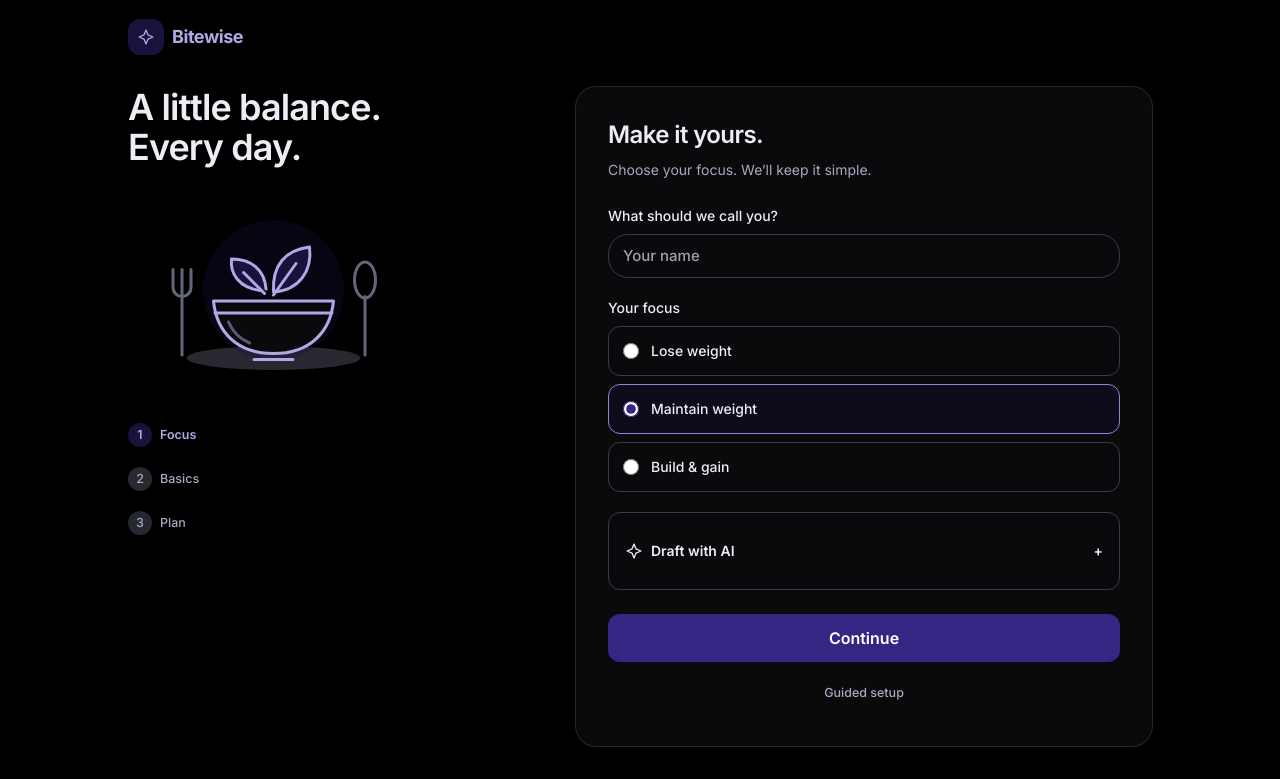
Test case: AI setup failure boundaries › distinguishes daily_limit without blocking manual setup
Click the button "Draft with AI +" at (693, 551), box [625, 529, 1103, 573]
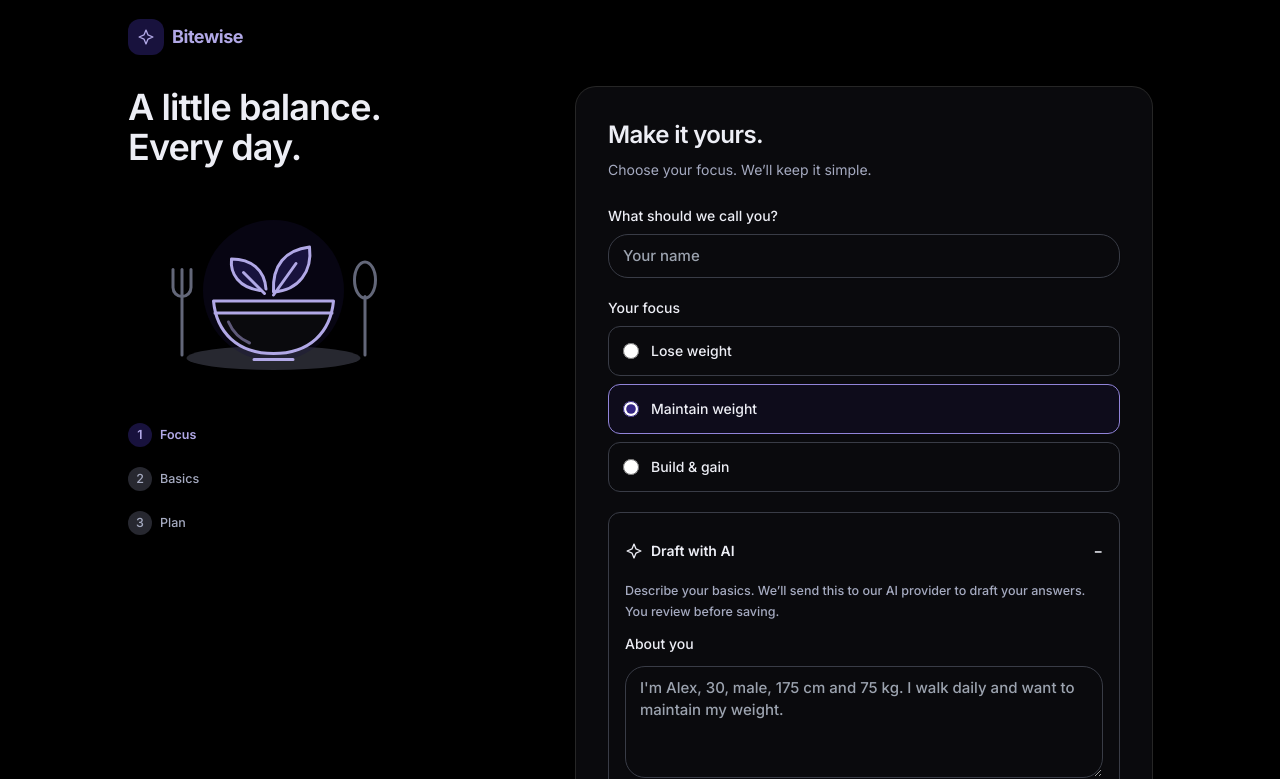
Replace the text in the text box labelled "About you" with "  I am Taylor A, 32, female, 175 cm and 75 kg.  " at (864, 722), box [625, 666, 1103, 778]
(page scrolled)
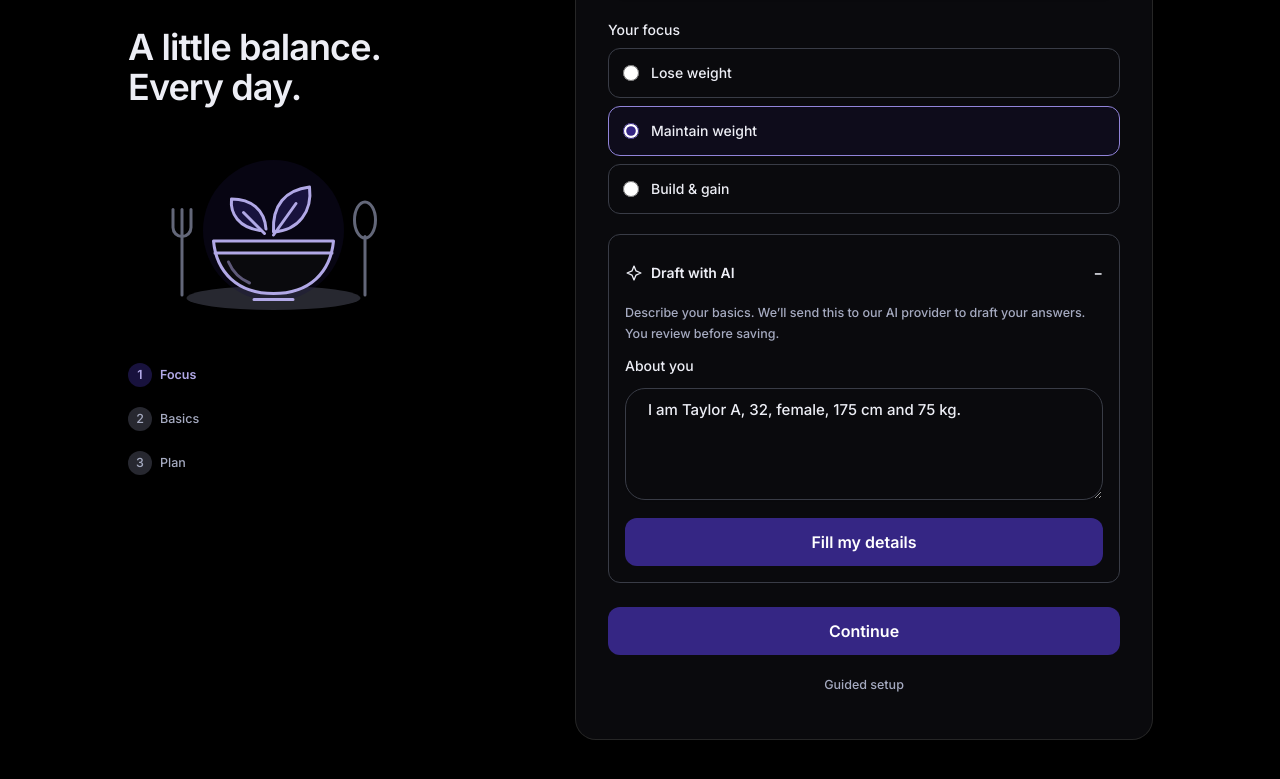
Click the button "Fill my details" at (864, 542), box [625, 518, 1103, 566]
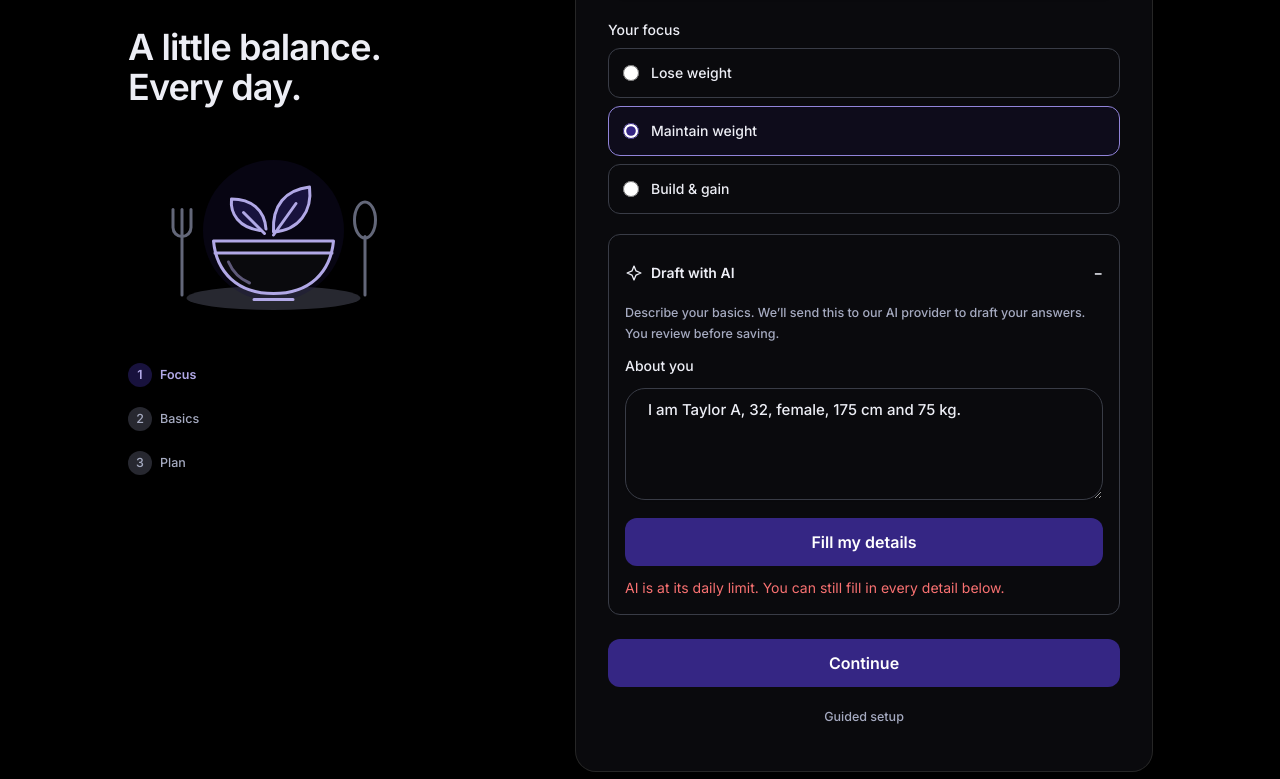
Expected: the message does not show "busy right now", [625, 579, 1004, 596]
Expected: the button "Fill my details" is enabled, [625, 518, 1103, 566]
Expected: the message shows "daily limit", [625, 579, 1004, 596]
